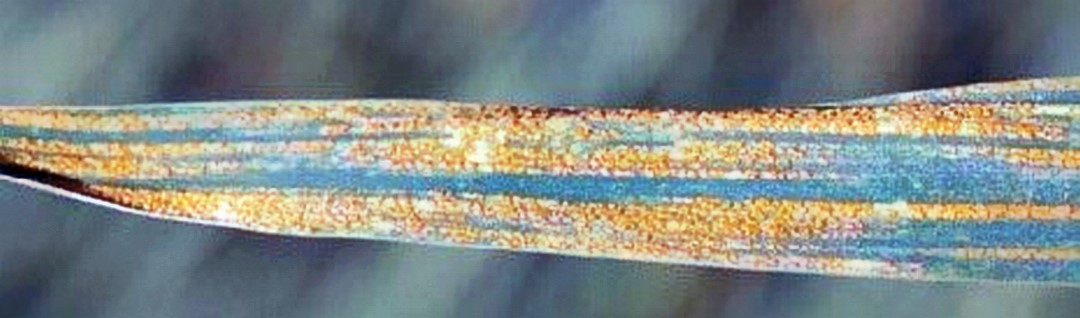Leaf Rust: (146, 73, 798, 282)
